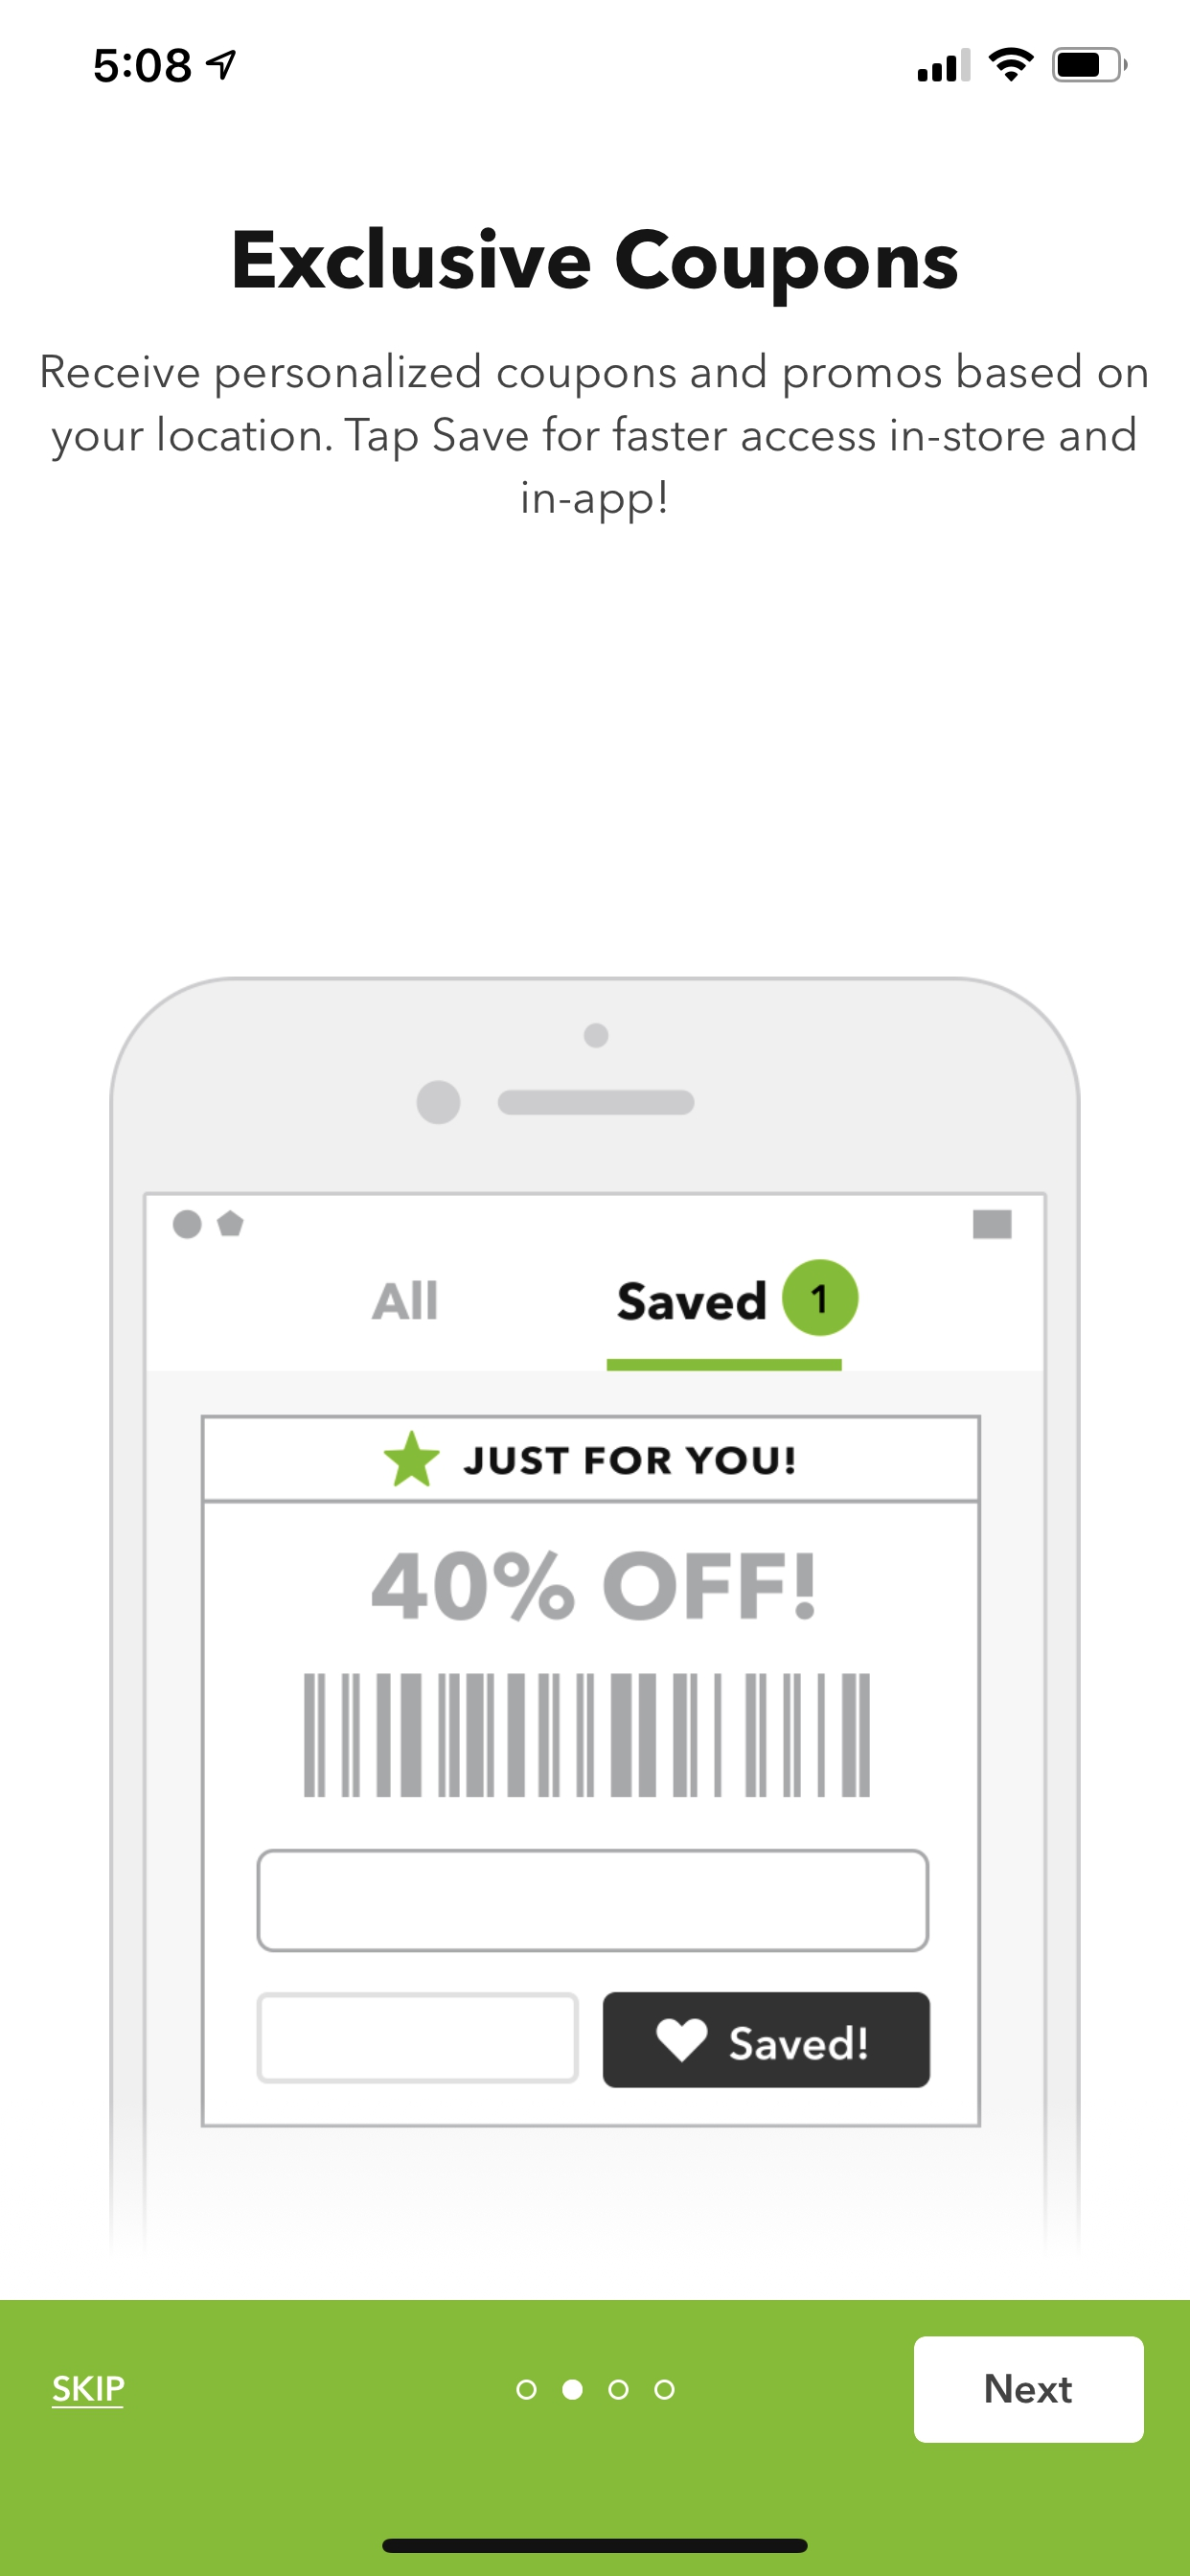Image: (108, 976, 1082, 2251)
PageIndicator: (516, 2377, 676, 2400)
Text: (43, 352, 1147, 526), (235, 227, 958, 307), (51, 2374, 125, 2408)
TextButton: (914, 2336, 1144, 2445)
UpperTaskBar: (94, 48, 1128, 84)
